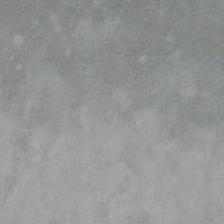Non_Crack: (14, 15, 224, 214)
